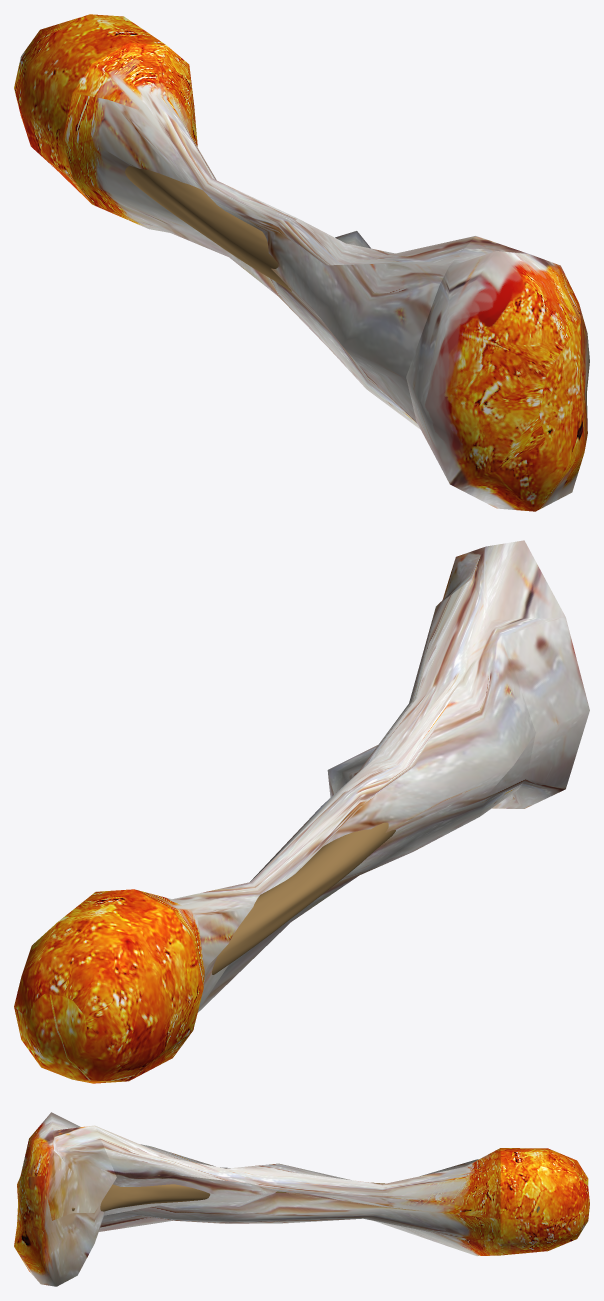
File: FriedChicken_eat03.FBX
3 renders of one model, top to bottom at view 1: azimuth 30°, elevation 25°; view 2: azimuth 150°, elevation 25°; view 3: azimuth 270°, elevation 25°, orthographic. The views are drawn at different scales.
Visible parts, largest first — view 1: Chicken_Fried03, Chicken_Fried03bone; view 2: Chicken_Fried03, Chicken_Fried03bone; view 3: Chicken_Fried03, Chicken_Fried03bone.
Boxes of the visible parts, box(x1,y1,x2,y2) form: Chicken_Fried03: box(14, 14, 589, 511); Chicken_Fried03bone: box(125, 166, 291, 291); Chicken_Fried03: box(14, 540, 589, 1083); Chicken_Fried03bone: box(212, 822, 395, 974); Chicken_Fried03: box(14, 1112, 589, 1286); Chicken_Fried03bone: box(72, 1182, 539, 1212).
Bounding box in the file's own units: 6.92 × 34.28 × 10.44.
2 materials, 1 textured.
